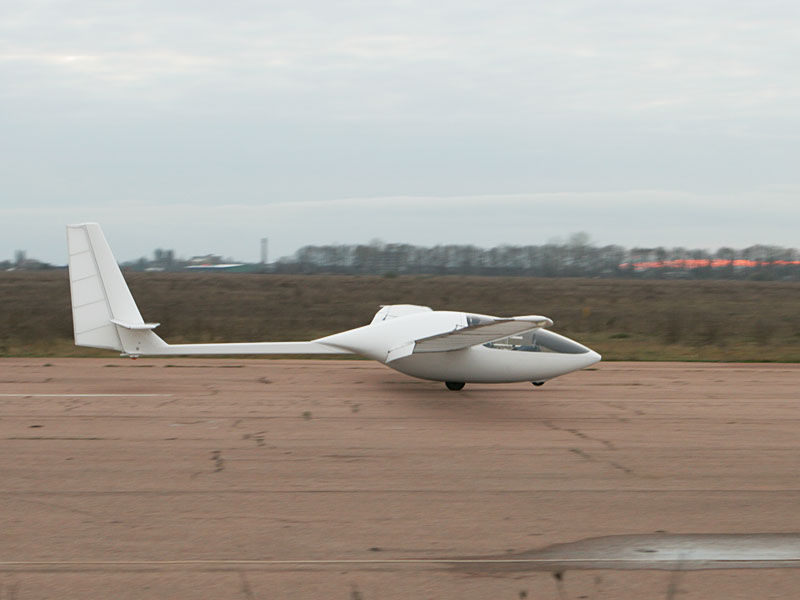Aeronef_de_loisir: (38, 214, 616, 406)
